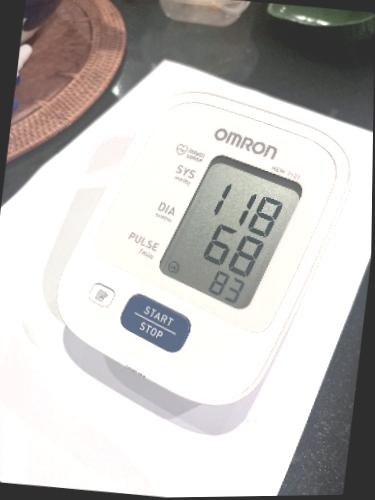bpm: (150, 136, 318, 320)
